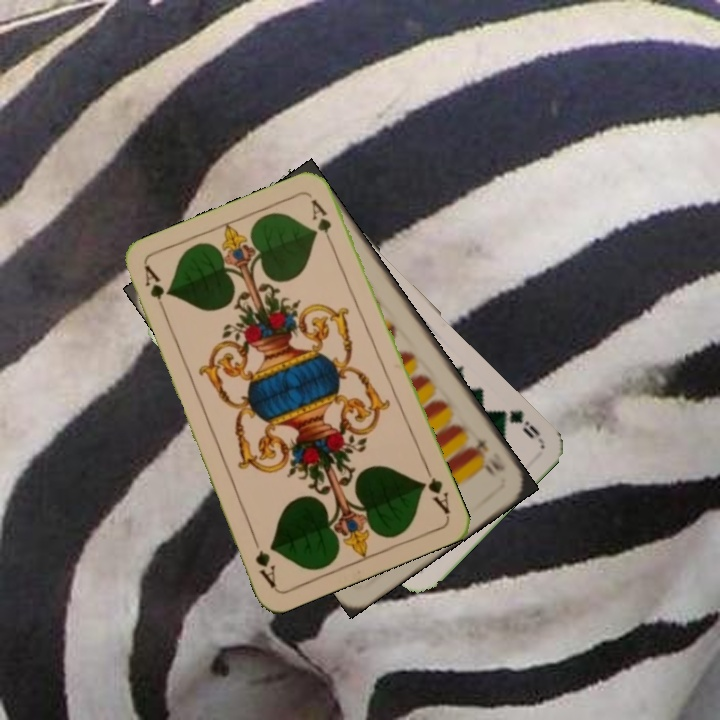E10: (467, 433, 508, 481)
G9: (498, 404, 543, 444)
GA: (417, 461, 453, 517), (140, 262, 170, 319)
